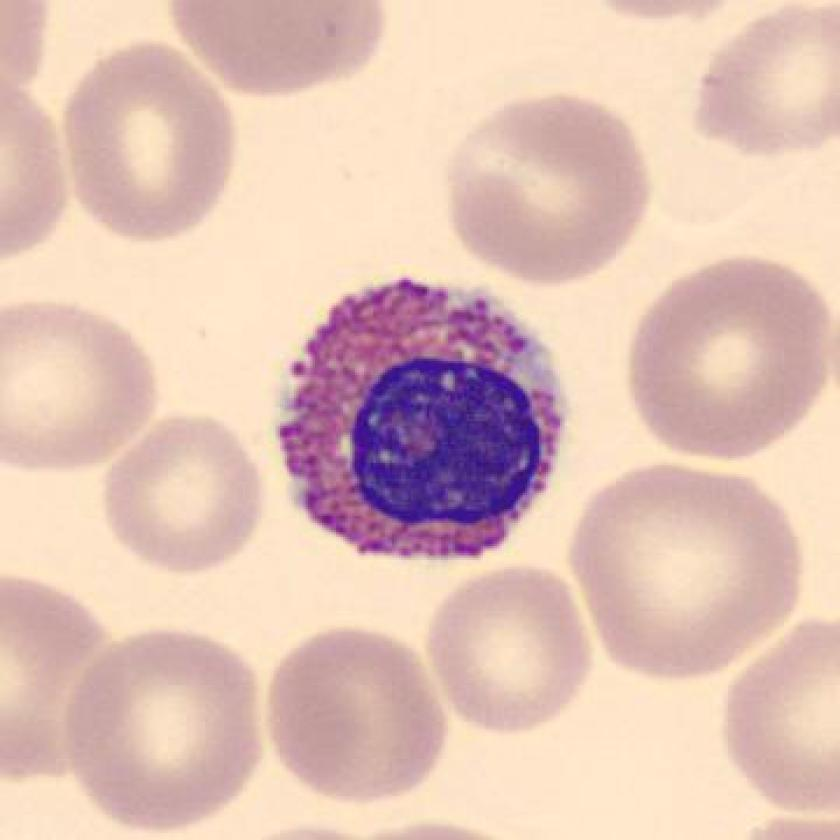eosinophil: (258, 260, 589, 589)
